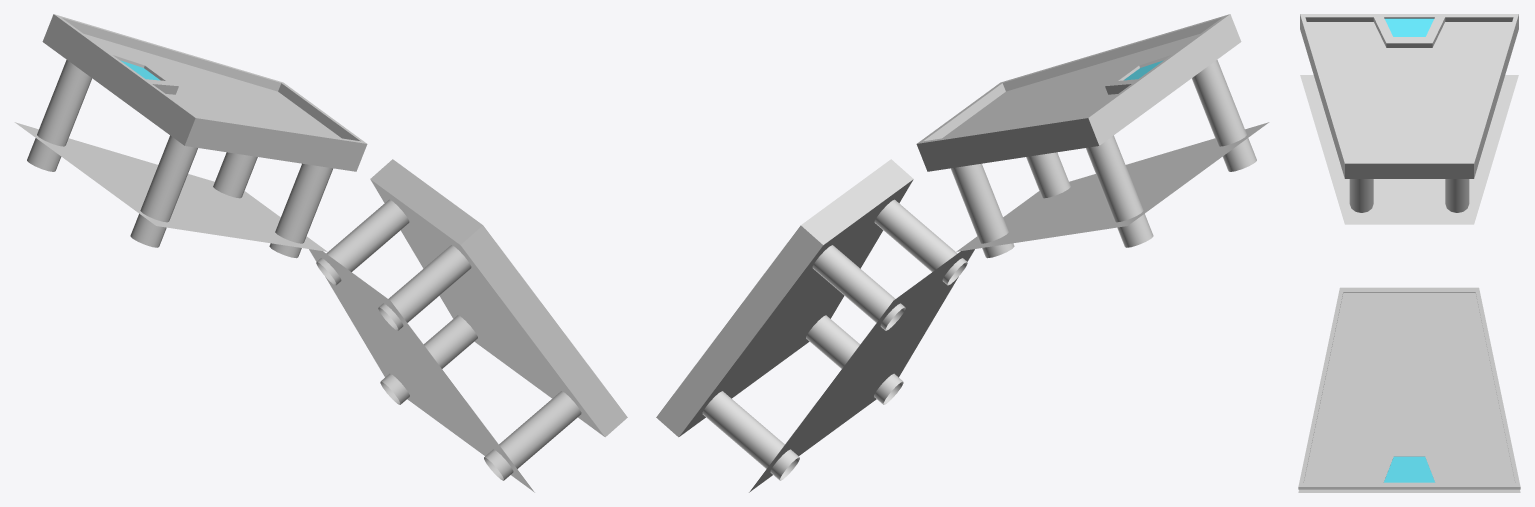
The model's file is Mod_Pauldron_L_Snail3.fbx.
The picture shows the model from 3 angles, left to right: view 1: azimuth 30°, elevation 25°; view 2: azimuth 150°, elevation 25°; view 3: azimuth 270°, elevation 25°; orthographic projection. The views are drawn at different scales.
Parts seen in each view (by area): view 1: Mod_Pauldron_L_Snail3; view 2: Mod_Pauldron_L_Snail3; view 3: Mod_Pauldron_L_Snail3.
Part boxes in pixels (x1=…): Mod_Pauldron_L_Snail3: x1=14, y1=14, x2=627, y2=492; Mod_Pauldron_L_Snail3: x1=656, y1=14, x2=1269, y2=492; Mod_Pauldron_L_Snail3: x1=1298, y1=14, x2=1520, y2=492.
Bounding box in the file's own units: 274 × 252 × 144.
